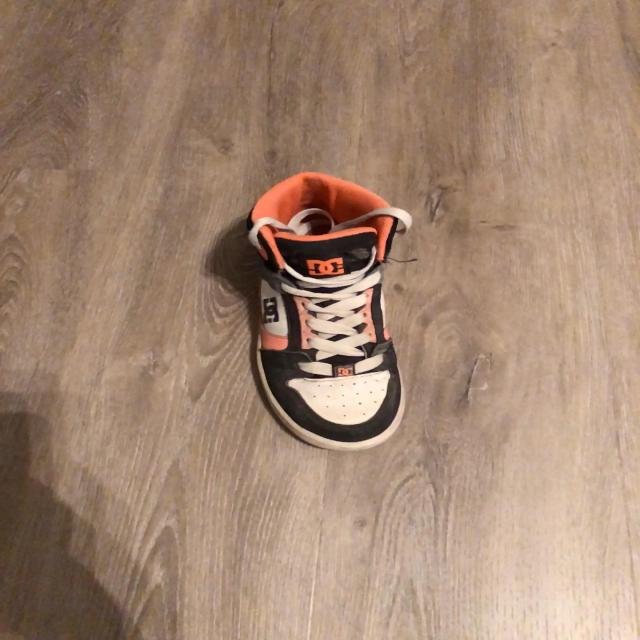shoe: (248, 176, 410, 455)
